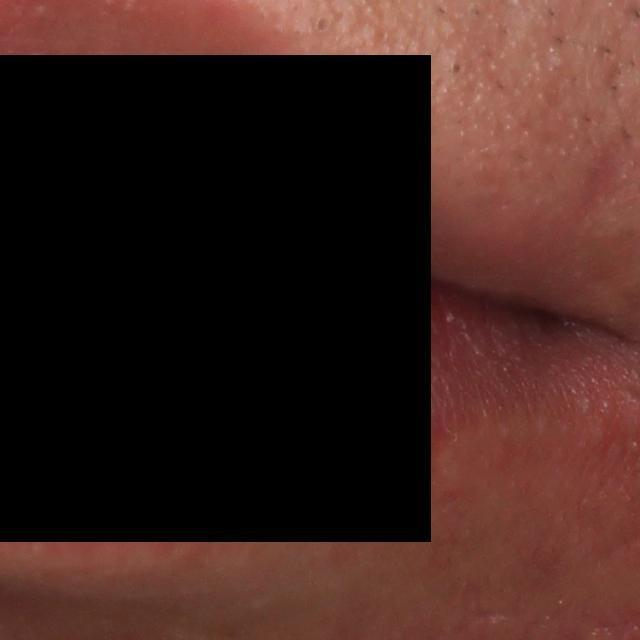comedo: (310, 9, 338, 41), (446, 56, 473, 83)
